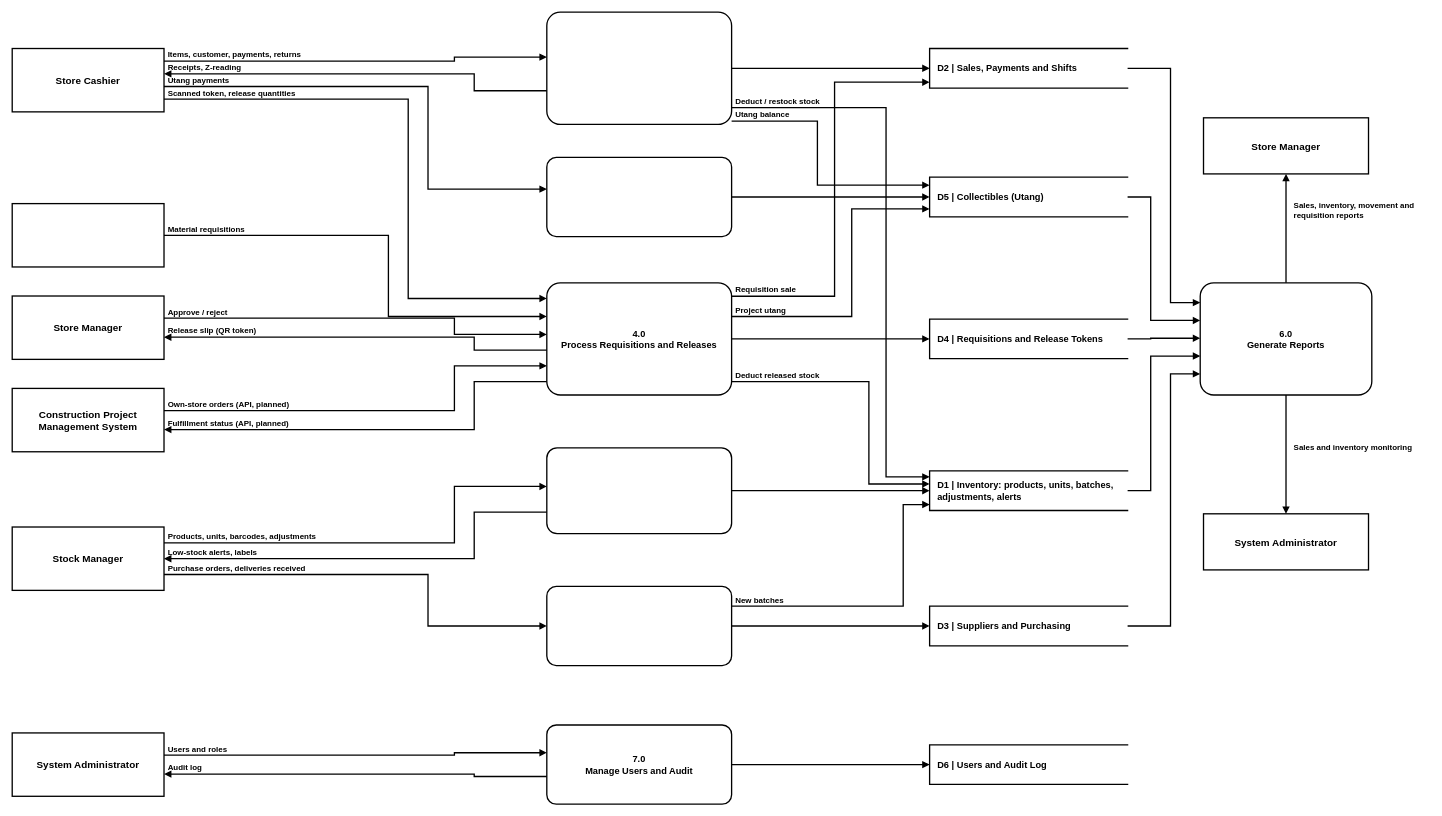
Image size: 1442x816. Some labels were removed from this diagram. The centre of each missing label's shape, as x and y in pixels:
"1.0 Process Sales and Returns" goes at (639,68).
"2.0 Manage Catalog and Stock" goes at (639,490).
"3.0 Purchase and Receive Goods" goes at (639,625).
"5.0 Manage Collectibles" goes at (639,196).
"Site Foreman" goes at (87,235).
